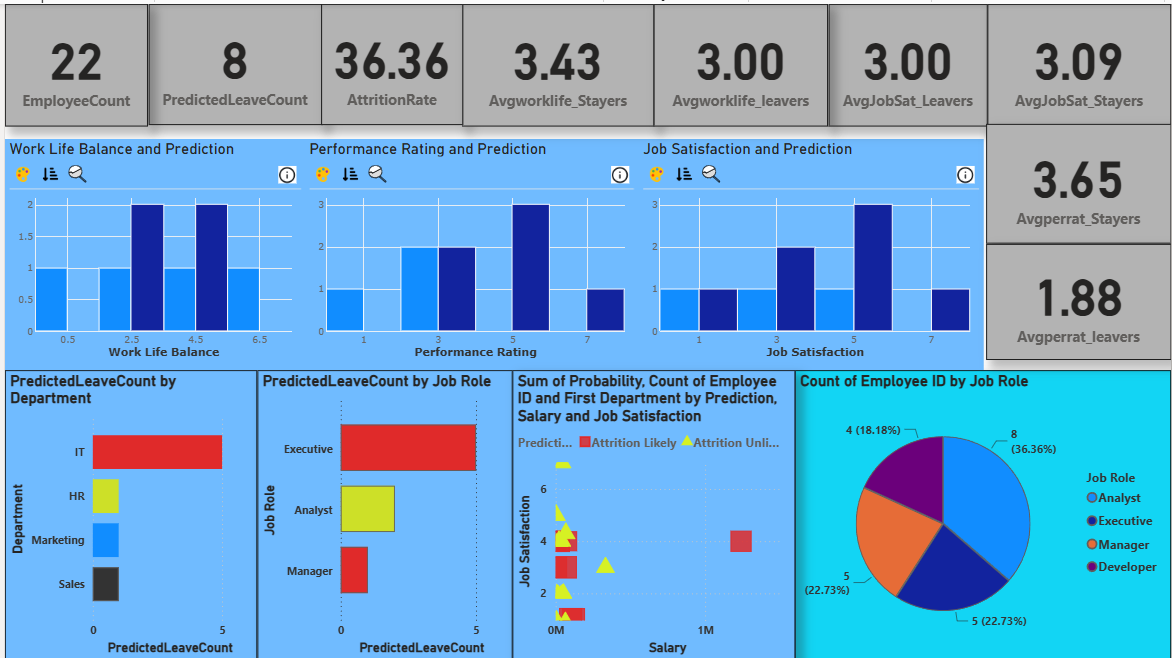

The page's visual inventory and layout, read from the dashboard file:
{"tool":"powerbi","page":{"name":"Page 1","canvas":[1280,720],"ordinal":0},"visuals":[{"type":"card","fields":{"Values":["latest_predictions.PredictedLeaveCount"]},"box":[157.1,0,190,132.9],"z":0},{"type":"card","fields":{"Values":["latest_predictions.EmployeeCount"]},"box":[0,0,157.1,134.3],"z":1000},{"type":"card","fields":{"Values":["latest_predictions.AttritionRate"]},"box":[347.1,0,155.7,132.9],"z":2000},{"type":"barChart","fields":{"Category":["latest_predictions.Department"],"Y":["latest_predictions.PredictedLeaveCount"]},"box":[0,401.4,277.1,318.6],"z":3000},{"type":"barChart","fields":{"Category":["latest_predictions.Job Role"],"Y":["latest_predictions.PredictedLeaveCount"]},"box":[277.1,401.4,280,318.6],"z":4000},{"type":"pieChart","fields":{"Category":["latest_predictions.Job Role"],"Y":["CountNonNull(latest_predictions.Employee ID)"]},"box":[867.2,402.1,413,318.4],"z":5000},{"type":"histogramF963F133BA02A0B35D286F09F80E9C78","fields":{"col_2":["latest_predictions.Job Satisfaction"],"col_1":["latest_predictions.Prediction"]},"box":[695.7,148.6,378.6,252.9],"z":6000},{"type":"histogramF963F133BA02A0B35D286F09F80E9C78","fields":{"col_2":["latest_predictions.Work Life Balance"],"col_1":["latest_predictions.Prediction"]},"box":[0,148.6,330,252.9],"z":7000},{"type":"histogramF963F133BA02A0B35D286F09F80E9C78","fields":{"col_2":["latest_predictions.Performance Rating"],"col_1":["latest_predictions.Prediction"]},"box":[330,148.6,365.7,252.9],"z":8000},{"type":"card","fields":{"Values":["latest_predictions.AvgJobSat_Leavers"]},"box":[904.3,0,174.3,134.3],"z":9000},{"type":"card","fields":{"Values":["latest_predictions.AvgJobSat_Stayers"]},"box":[1078.6,0,201.4,134.3],"z":10000},{"type":"card","fields":{"Values":["latest_predictions.Avgworklife_Stayers"]},"box":[502.9,0,210,134.3],"z":11000},{"type":"card","fields":{"Values":["latest_predictions.Avgworklife_leavers"]},"box":[712.9,0,191.4,134.3],"z":12000},{"type":"card","fields":{"Values":["latest_predictions.Avgperrat_Stayers"]},"box":[1077.1,131.4,202.9,131.4],"z":13000},{"type":"card","fields":{"Values":["latest_predictions.Avgperrat_leavers"]},"box":[1077.1,262.9,202.9,127.1],"z":14000},{"type":"scatterChart","fields":{"Series":["latest_predictions.Prediction"],"Size":["Sum(latest_predictions.Probability)"],"X":["latest_predictions.Salary"],"Y":["latest_predictions.Job Satisfaction"]},"box":[557.1,401.4,310,318.6],"z":15000}]}

Visuals, with their boxes in screenshot pixels (x1, y1, x2, y2), scaled from the page's 1280x720 canvas onto the 1172x658 screenshot:
card - latest_predictions.PredictedLeaveCount: crop(144, 0, 318, 121)
card - latest_predictions.EmployeeCount: crop(0, 0, 144, 123)
card - latest_predictions.AttritionRate: crop(318, 0, 460, 121)
barChart - latest_predictions.Department x latest_predictions.PredictedLeaveCount: crop(0, 367, 254, 657)
barChart - latest_predictions.Job Role x latest_predictions.PredictedLeaveCount: crop(254, 367, 510, 657)
pieChart - latest_predictions.Job Role x CountNonNull(latest_predictions.Employee ID): crop(794, 367, 1171, 657)
histogramF963F133BA02A0B35D286F09F80E9C78 - latest_predictions.Job Satisfaction x latest_predictions.Prediction: crop(637, 136, 984, 367)
histogramF963F133BA02A0B35D286F09F80E9C78 - latest_predictions.Work Life Balance x latest_predictions.Prediction: crop(0, 136, 302, 367)
histogramF963F133BA02A0B35D286F09F80E9C78 - latest_predictions.Performance Rating x latest_predictions.Prediction: crop(302, 136, 637, 367)
card - latest_predictions.AvgJobSat_Leavers: crop(828, 0, 988, 123)
card - latest_predictions.AvgJobSat_Stayers: crop(988, 0, 1171, 123)
card - latest_predictions.Avgworklife_Stayers: crop(460, 0, 653, 123)
card - latest_predictions.Avgworklife_leavers: crop(653, 0, 828, 123)
card - latest_predictions.Avgperrat_Stayers: crop(986, 120, 1171, 240)
card - latest_predictions.Avgperrat_leavers: crop(986, 240, 1171, 356)
scatterChart - latest_predictions.Prediction x Sum(latest_predictions.Probability): crop(510, 367, 794, 657)
